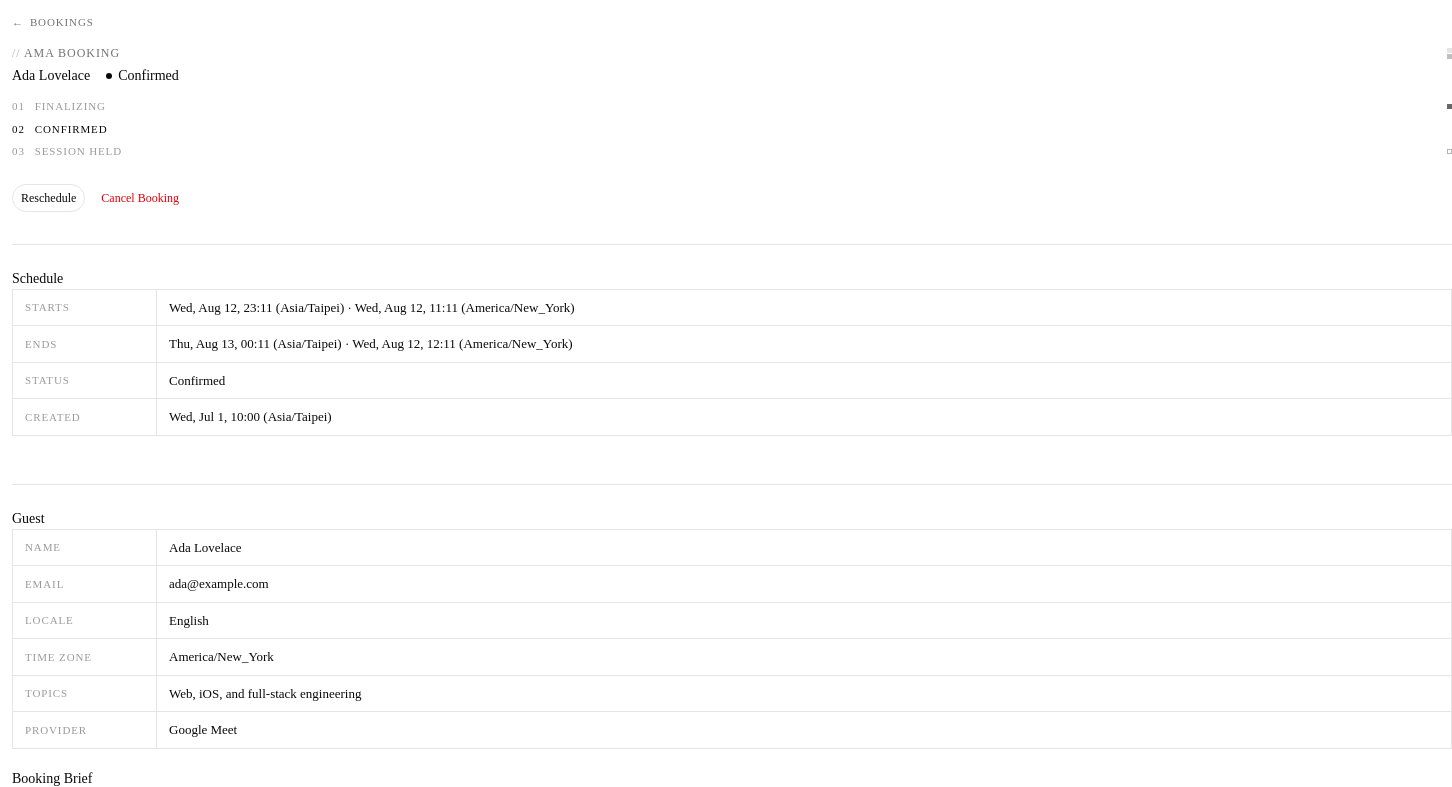
AMA booking detail › reschedules through the slot picker
Click the button "Reschedule".
click(49, 198)  # box [12, 184, 85, 212]
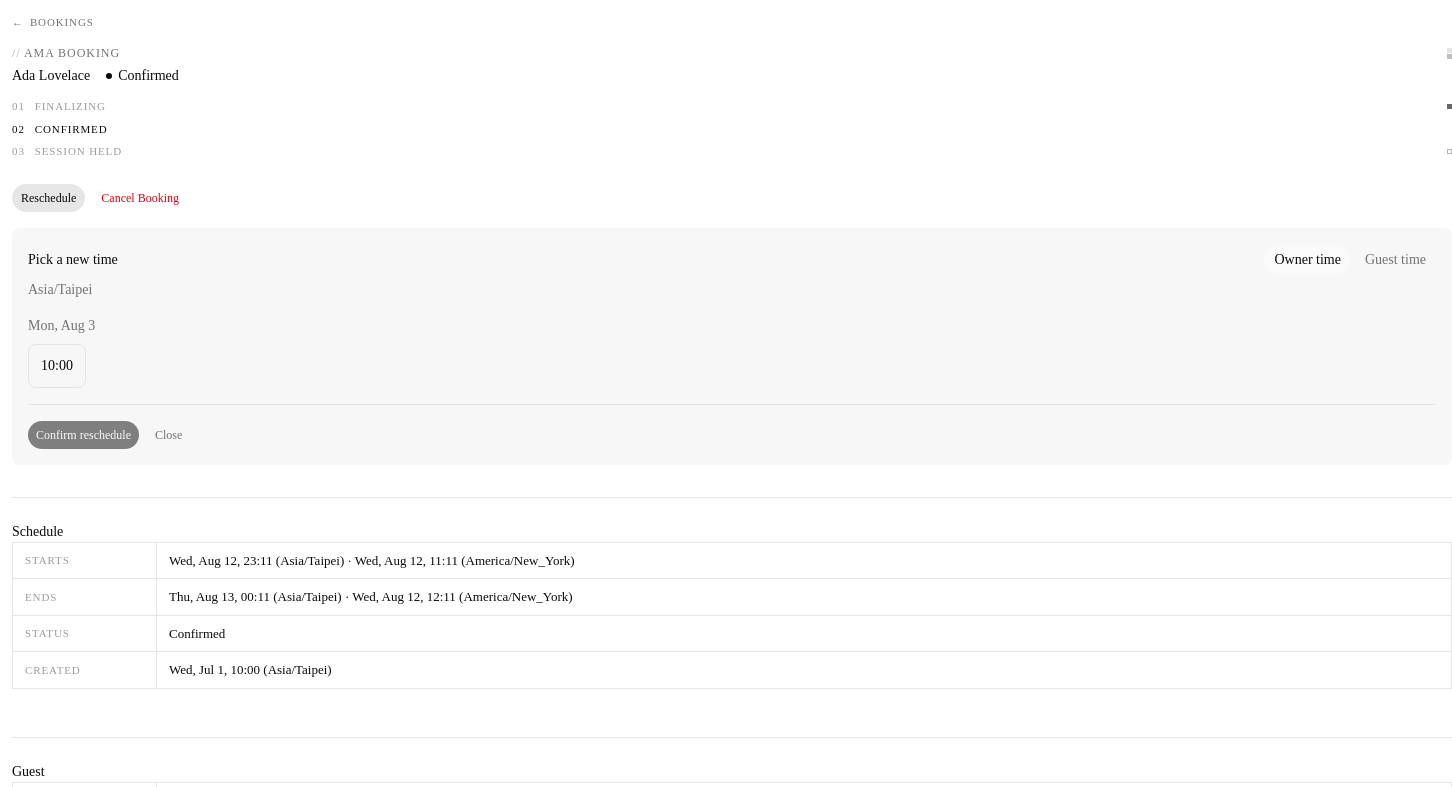
Check: the button "10:00" is shown
02:00Z is 10:00 in the owner zone (Asia/Taipei).
Click the button "10:00".
click(57, 366)  # box [28, 344, 86, 388]
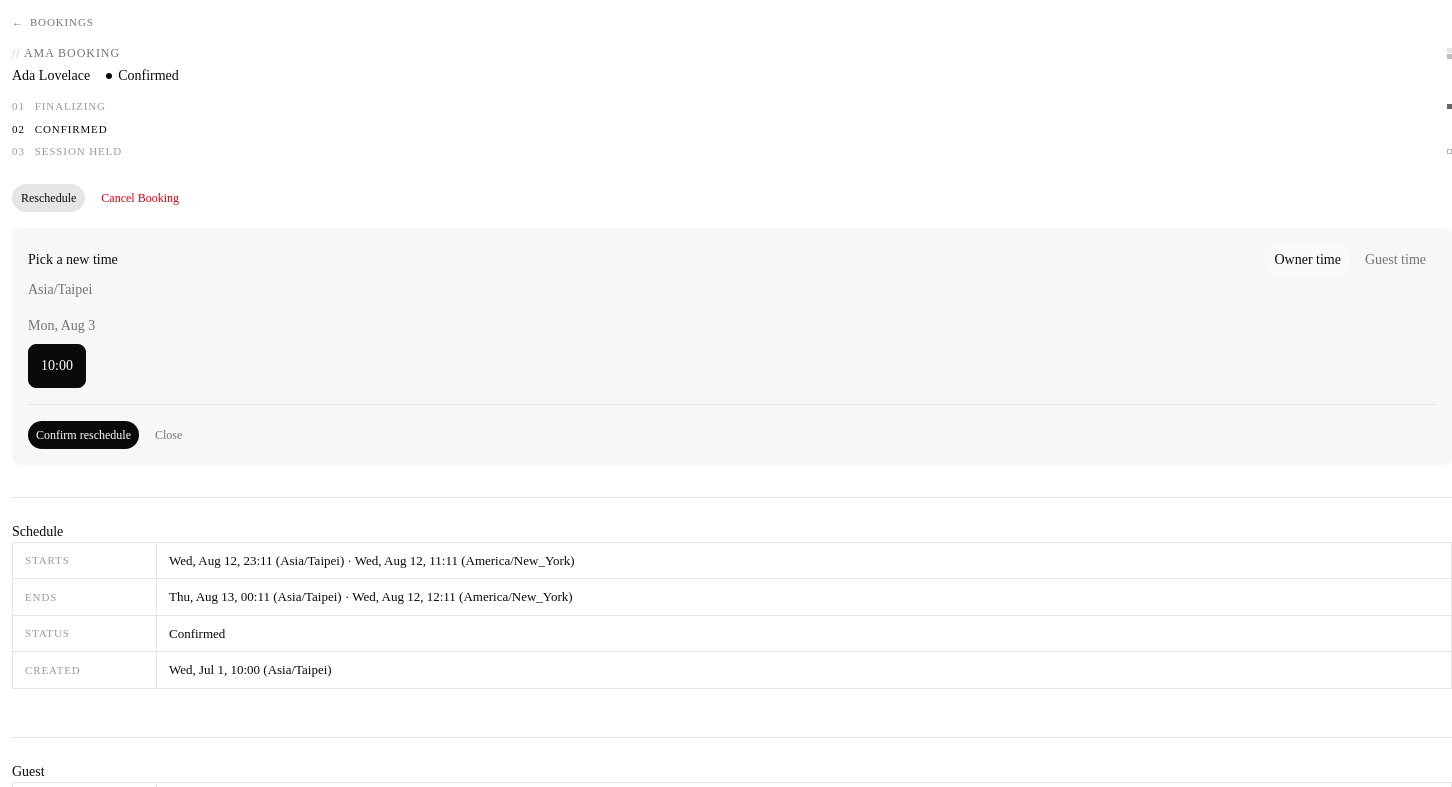
Click the button "Confirm reschedule".
click(84, 434)  # box [28, 420, 139, 448]
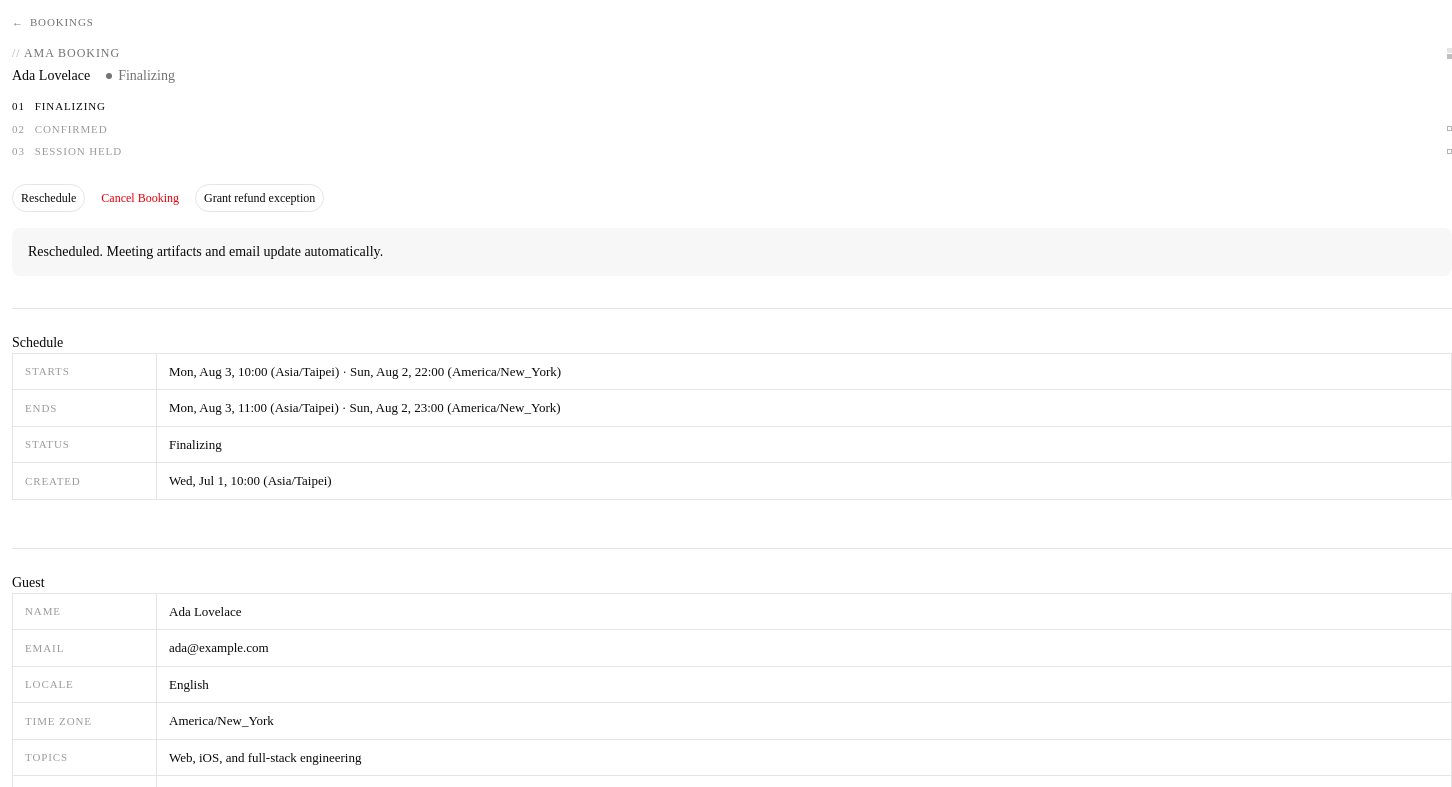
Check: the text "Finalizing" is shown, box [118, 66, 175, 86]
Check: the text "Rescheduled." is shown, box [28, 244, 383, 258]
